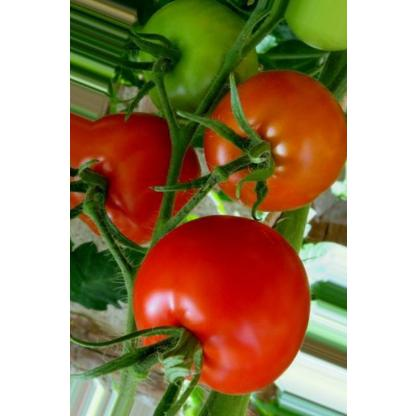tomato: (115, 209, 321, 399), (72, 103, 214, 269), (195, 62, 345, 216)
